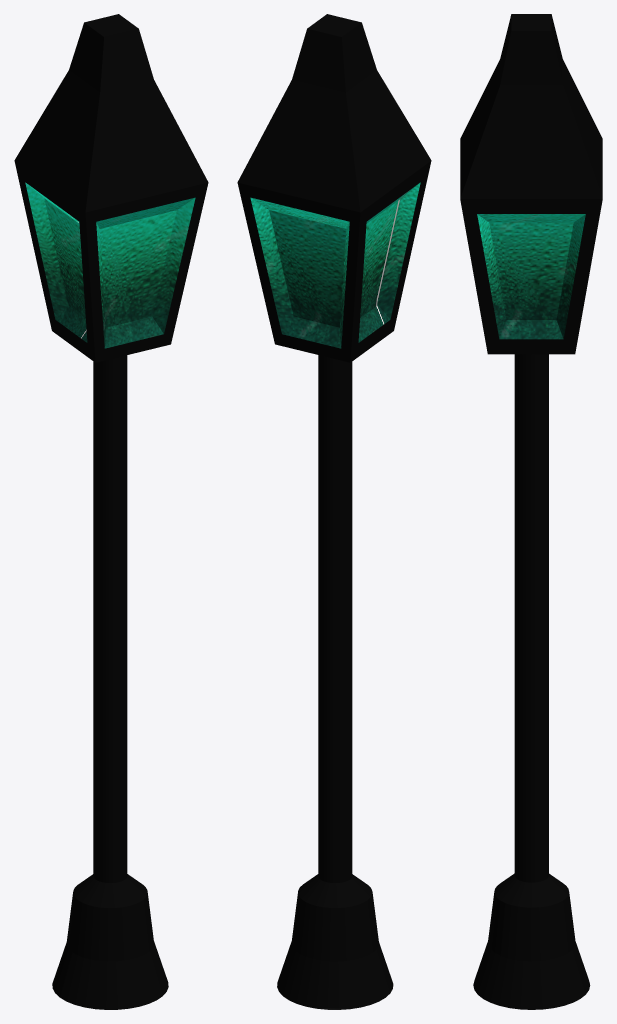
File: Poste.fbx
3 renders of one model, left to right at view 1: azimuth 30°, elevation 25°; view 2: azimuth 150°, elevation 25°; view 3: azimuth 270°, elevation 25°, orthographic.
Visible parts, largest first — view 1: Poste.001; view 2: Poste.001; view 3: Poste.001.
Part boxes in pixels (box(x1,y1,x2,y2)): Poste.001: box(14, 14, 208, 1009); Poste.001: box(237, 14, 431, 1009); Poste.001: box(460, 14, 602, 1009).
Size of the model in its own units: 79.06 by 589 by 79.06.
Materials: 1 (1 with a texture image).
